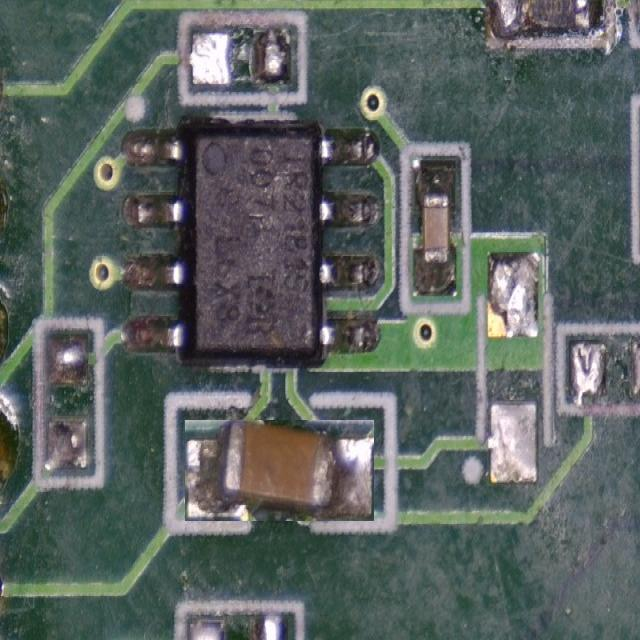Incorrect_installation: (185, 420, 374, 521)
